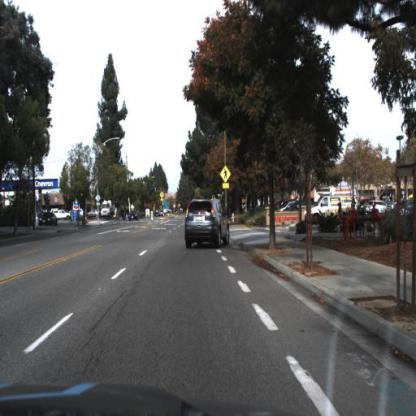car: (181, 195, 231, 253), (306, 195, 361, 227), (36, 211, 59, 229), (126, 208, 139, 225)
truck: (101, 197, 115, 222)
